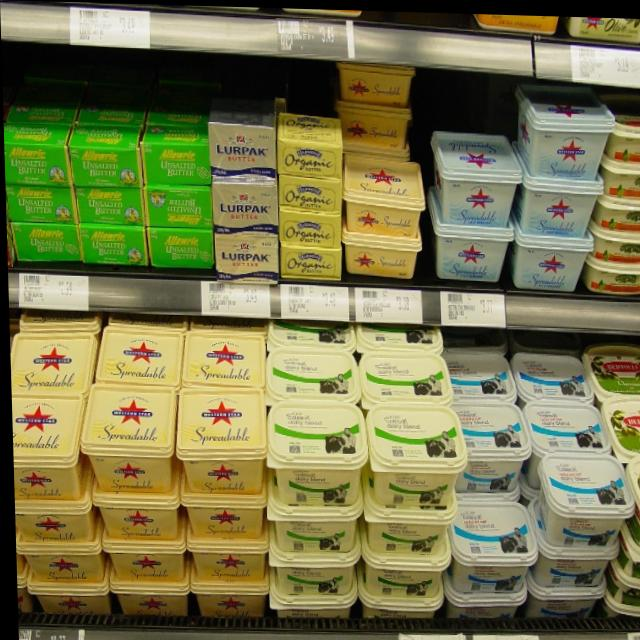q289: (177, 389, 264, 489), (83, 390, 171, 486), (9, 398, 83, 496), (94, 316, 182, 388), (8, 327, 95, 394), (184, 324, 266, 395), (184, 550, 269, 594), (185, 498, 259, 547), (20, 549, 109, 589), (15, 514, 92, 558), (104, 501, 181, 545), (113, 547, 186, 587)
